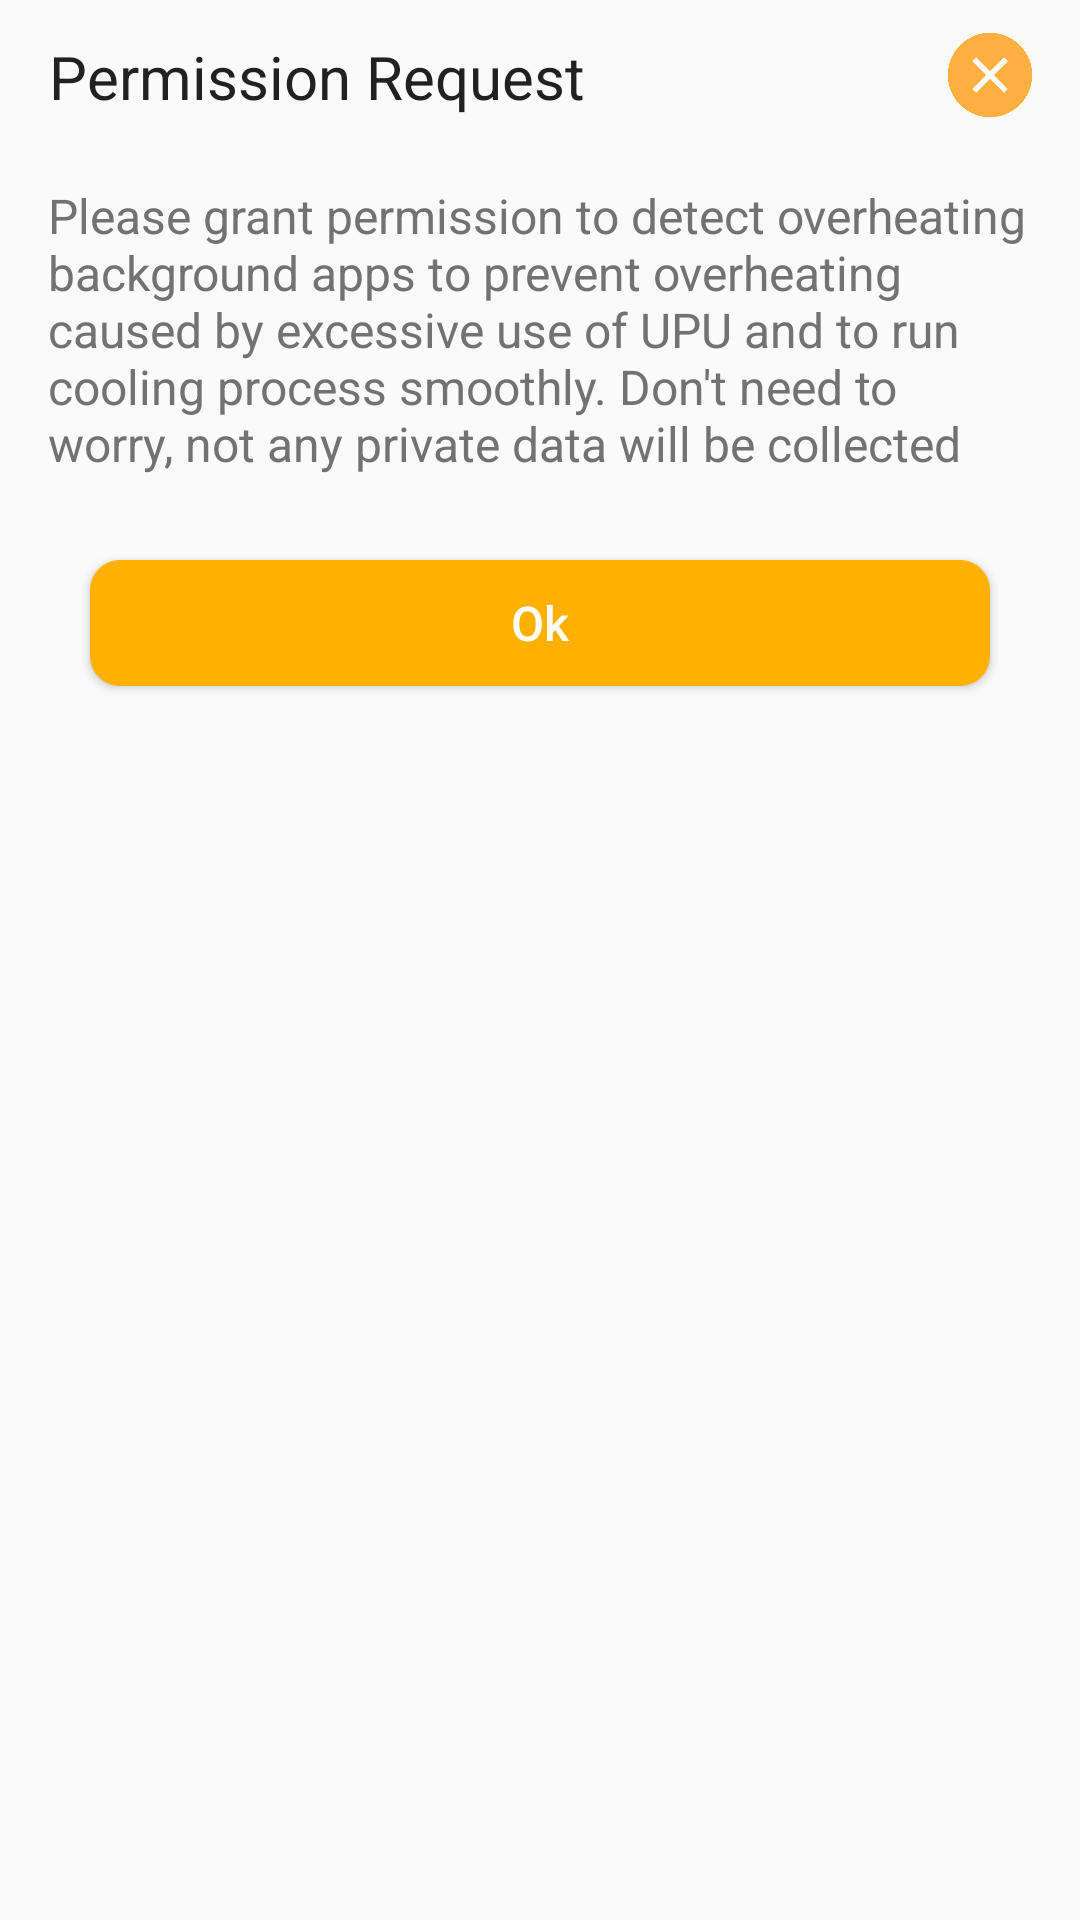

Named icons in this screenshot (1080px×1920px) and their bounding boxes, (x1, y1, x2, y2):
cancel: (948, 33, 1032, 117)
